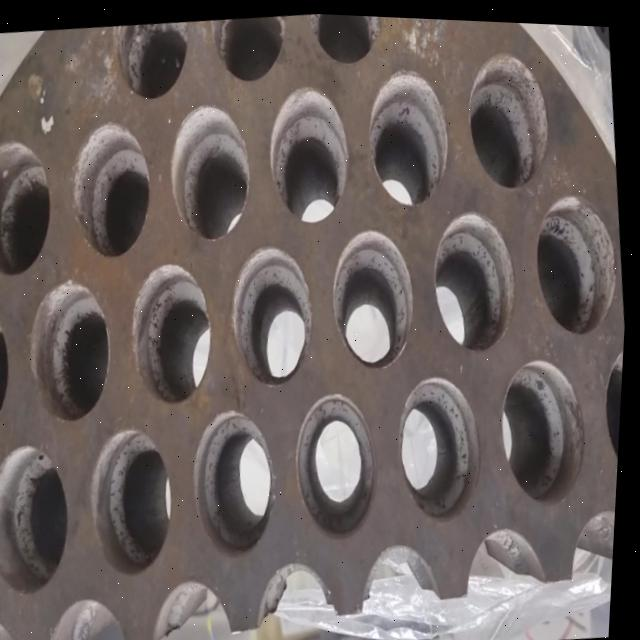Hole: (186, 401, 289, 561), (494, 347, 598, 505), (84, 420, 186, 579), (392, 365, 493, 523), (289, 384, 389, 542), (425, 201, 527, 354), (224, 237, 324, 391), (22, 273, 122, 427), (325, 219, 425, 371), (124, 255, 223, 408), (528, 184, 628, 335), (162, 96, 260, 245), (459, 42, 558, 189), (360, 59, 457, 207), (260, 78, 358, 224), (63, 115, 160, 261), (0, 438, 83, 598), (0, 135, 61, 280), (109, 17, 195, 103), (207, 10, 289, 85), (306, 11, 387, 67), (598, 336, 627, 484), (0, 295, 22, 438)
